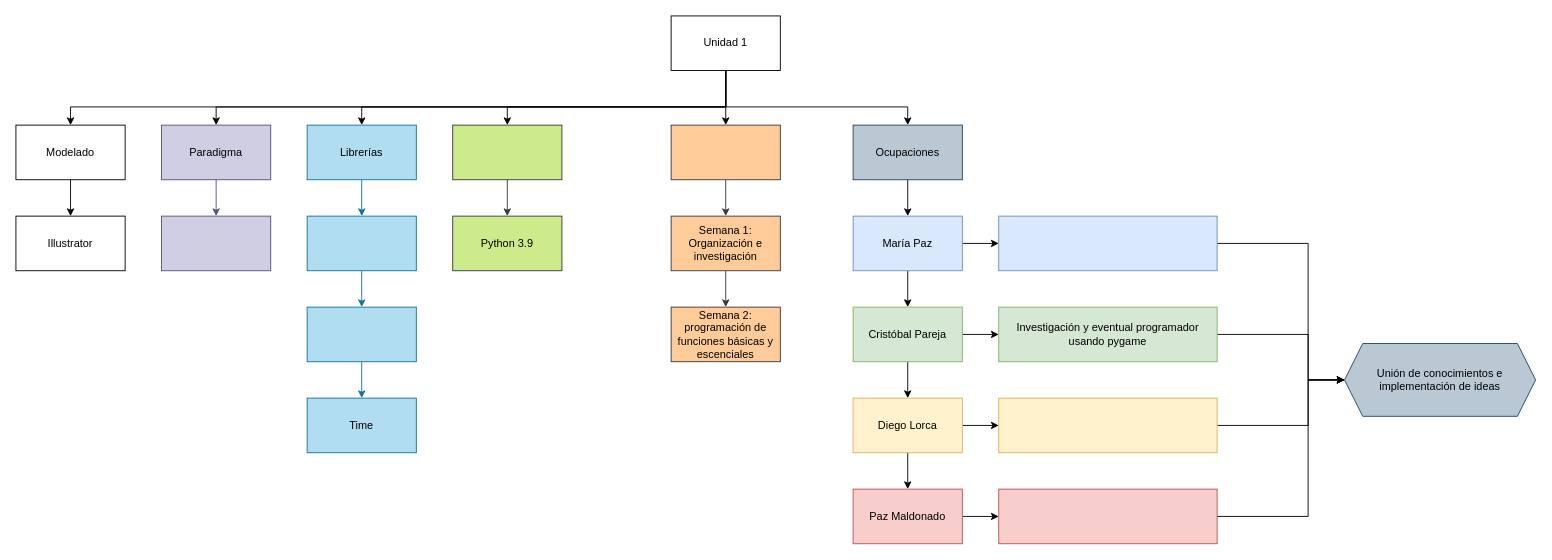
Some shapes in this 1552 by 560 pixel diagram are drawn without their labels. The shapes that lost their labels are listed below. From the top down, each one's centre as x and y in pixels, then its label:
At (x=507, y=152): "Lenguaje".
At (x=725, y=152): "Planificación".
At (x=216, y=243): "Orientado a Objetos".
At (x=361, y=243): "Pygame".
At (x=1107, y=243): "Creación de una interfaz grafica para el menú del juego".
At (x=361, y=334): "Math".
At (x=1107, y=425): "Encargado de aplicar la física y matemáticas en el programa".
At (x=1107, y=516): "Investigación de programación orientada a objetos en python".
